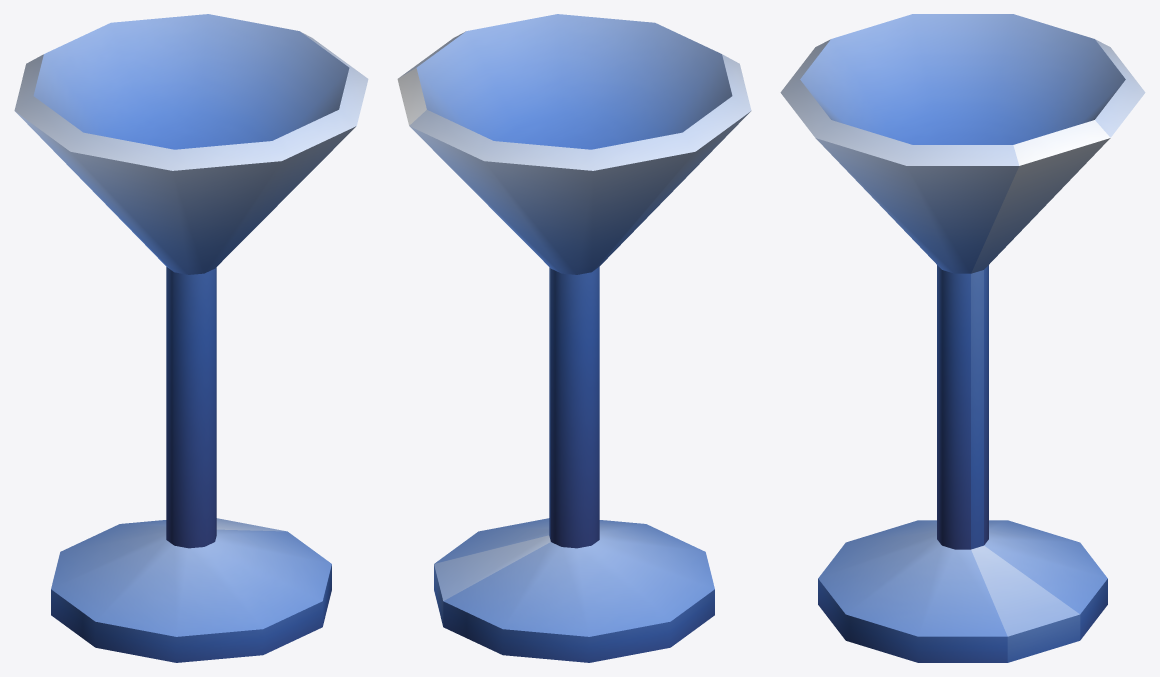
Rendered from m_Glass01.fbx.
3 views of the same model, side by side, from view 1: azimuth 30°, elevation 25°; view 2: azimuth 150°, elevation 25°; view 3: azimuth 270°, elevation 25° (orthographic).
Visible parts, largest first — view 1: m_Glass01; view 2: m_Glass01; view 3: m_Glass01.
Part boxes in pixels (bbox=[...]): m_Glass01: bbox=[14, 14, 368, 662]; m_Glass01: bbox=[397, 14, 751, 662]; m_Glass01: bbox=[780, 14, 1145, 662].
Size of the model in its own units: 11.98 by 20 by 12.6.
